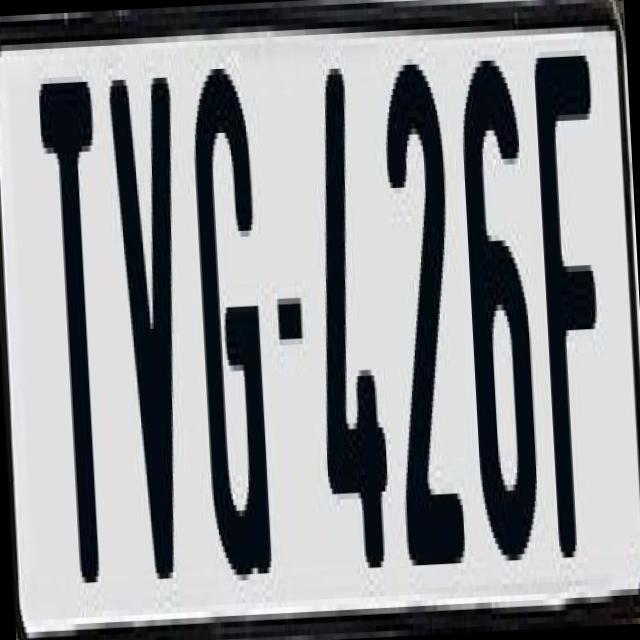2: (378, 51, 470, 590)
4: (302, 55, 391, 559)
6: (456, 42, 542, 580)
F: (534, 50, 616, 558)
G: (185, 50, 278, 582)
T: (35, 81, 122, 613)
V: (105, 71, 199, 610)
